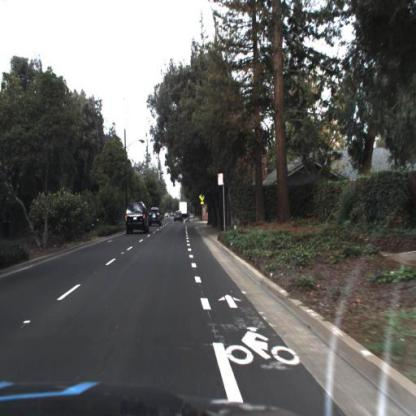car: (124, 201, 149, 232), (150, 206, 163, 230), (179, 202, 189, 219), (174, 210, 184, 224)
truck: (178, 199, 191, 225)
